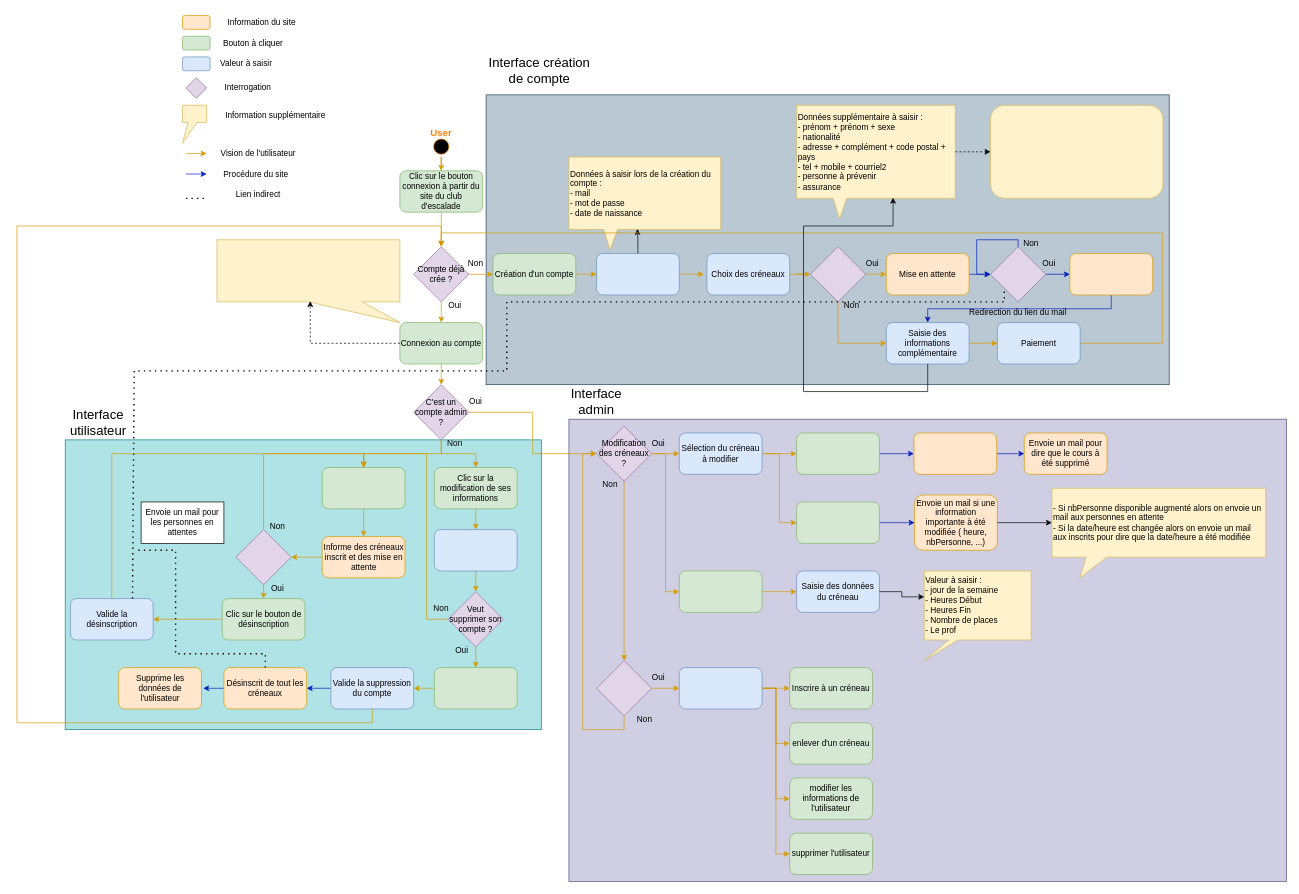
The diagram is 1299 pixels wide and 894 high, and some of its shapes have lost their labels. The centre of each missing label's shape, as x and y in pixels:
Clic sur le bouton de suppression de compte: pixel 475 688
Clic sur les informations des créneaux inscrit: pixel 363 488
Créer un nouveau créneau: pixel 720 591
Créneau déjà full ?: pixel 838 274
Données déduites : - Action - ville - type license - n° license - options: pixel 1076 151
Données à saisir lors de la connexion : - mail - mot de passe - code A2F ?: pixel 308 281
Désinscrit toutes les personnes et supprime les personnes en attente: pixel 955 453
Envoie d'un mail pour qu'il valide sa place pour le créneau: pixel 1111 274
Gérer les utilisateurs ?: pixel 624 688
Il y a une place qui s'est libérée ?: pixel 1018 274
Modifie ses informations: pixel 475 550
Modifier les données du créneau: pixel 837 522
Saisie des informations (nécessaire pour déduire les créneaux): pixel 637 274
Supprimer le créneau: pixel 837 453
Sélection d'une personne: pixel 720 688
Veut se désinscrire: pixel 263 557
